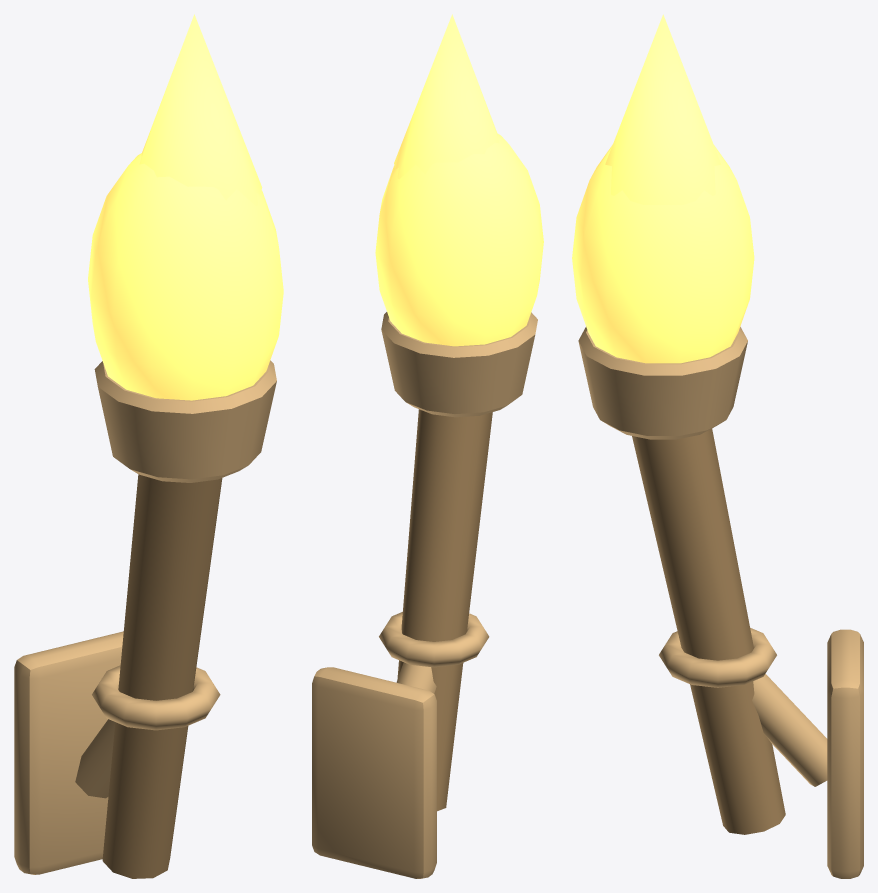
File: torch.glb
3 renders of one model, left to right at view 1: azimuth 30°, elevation 25°; view 2: azimuth 150°, elevation 25°; view 3: azimuth 270°, elevation 25°, orthographic. The views are drawn at different scales.
Parts seen in each view (by area): view 1: torch, flame; view 2: torch, flame; view 3: torch, flame.
Part boxes in pixels (x1,y1,x2,y2): torch: [14, 360, 276, 878]; flame: [88, 14, 283, 400]; torch: [312, 312, 537, 878]; flame: [375, 14, 543, 346]; torch: [578, 327, 863, 878]; flame: [572, 14, 754, 363].
Bounding box in the file's own units: 0.195 × 1.02 × 0.32.
